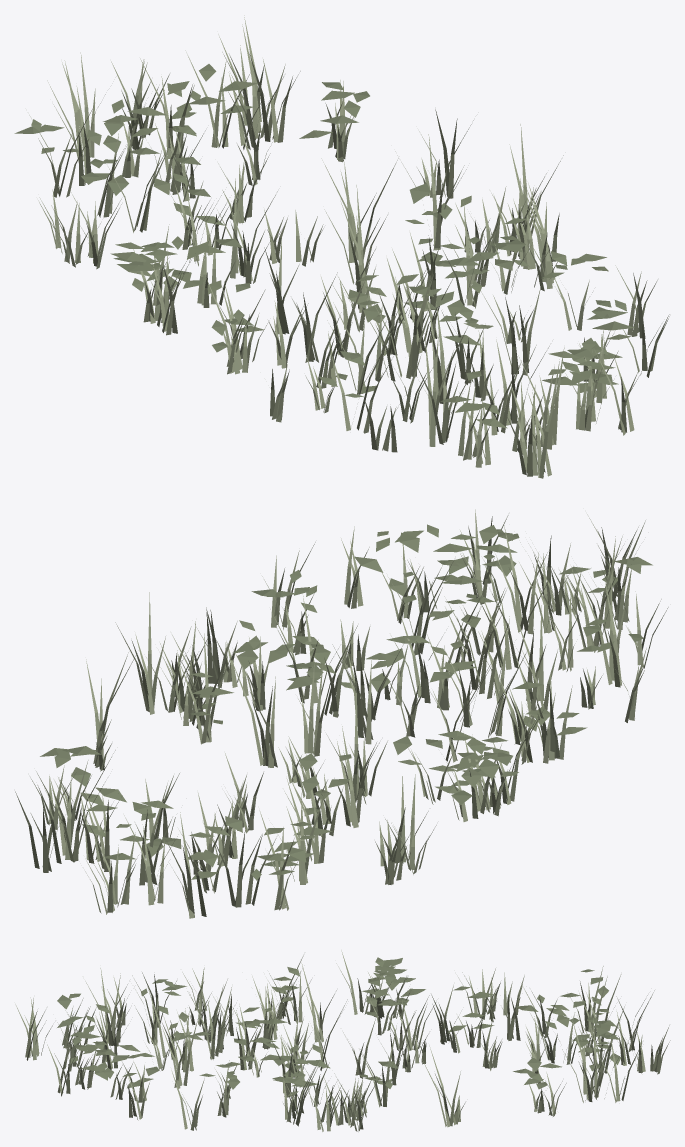
The model's file is AE_Encroachment_01.fbx.
The picture shows the model from 3 angles, top to bottom: view 1: azimuth 30°, elevation 25°; view 2: azimuth 150°, elevation 25°; view 3: azimuth 270°, elevation 25°; orthographic projection. The views are drawn at different scales.
Parts seen in each view (by area): view 1: AE_Encroachment_01_LOD0; view 2: AE_Encroachment_01_LOD0; view 3: AE_Encroachment_01_LOD0.
Part boxes in pixels (bbox=[...]): AE_Encroachment_01_LOD0: bbox=[14, 15, 669, 478]; AE_Encroachment_01_LOD0: bbox=[15, 509, 668, 918]; AE_Encroachment_01_LOD0: bbox=[15, 950, 670, 1131].
Size of what is drawn, in the model's own units: 399 by 106 by 814.
